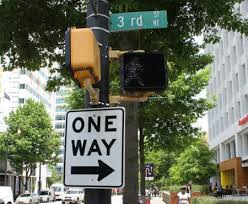oneWay: (63, 109, 125, 190)
